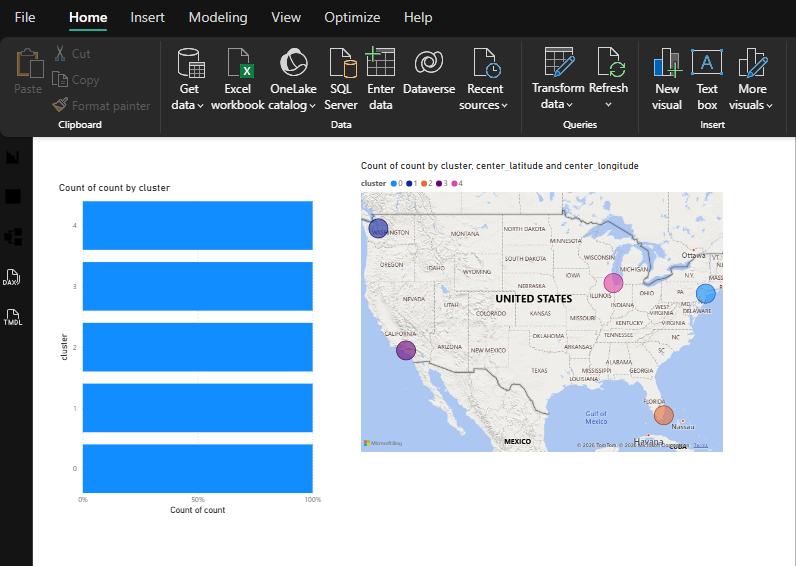

The page's visual inventory and layout, read from the dashboard file:
{"tool":"powerbi","page":{"name":"Page 1","canvas":[1280,720],"ordinal":0},"visuals":[{"type":"hundredPercentStackedBarChart","fields":{"Category":["cluster_summary?k=5.cluster"],"Y":["CountNonNull(cluster_summary?k=5.count)"]},"box":[38.8,73.2,451.1,566.1],"z":0},{"type":"map","fields":{"Y":["cluster_summary?k=5.center_latitude"],"X":["cluster_summary?k=5.center_longitude"],"Size":["CountNonNull(cluster_summary?k=5.count)"],"Series":["cluster_summary?k=5.cluster"]},"box":[545.2,37.3,618.4,497.4],"z":1}]}

Visuals, with their boxes in screenshot pixels (x1, y1, x2, y2):
hundredPercentStackedBarChart - cluster_summary?k=5.cluster x CountNonNull(cluster_summary?k=5.count): (left=32, top=157, right=309, bottom=504)
map - cluster_summary?k=5.center_latitude x cluster_summary?k=5.center_longitude: (left=343, top=135, right=722, bottom=440)
